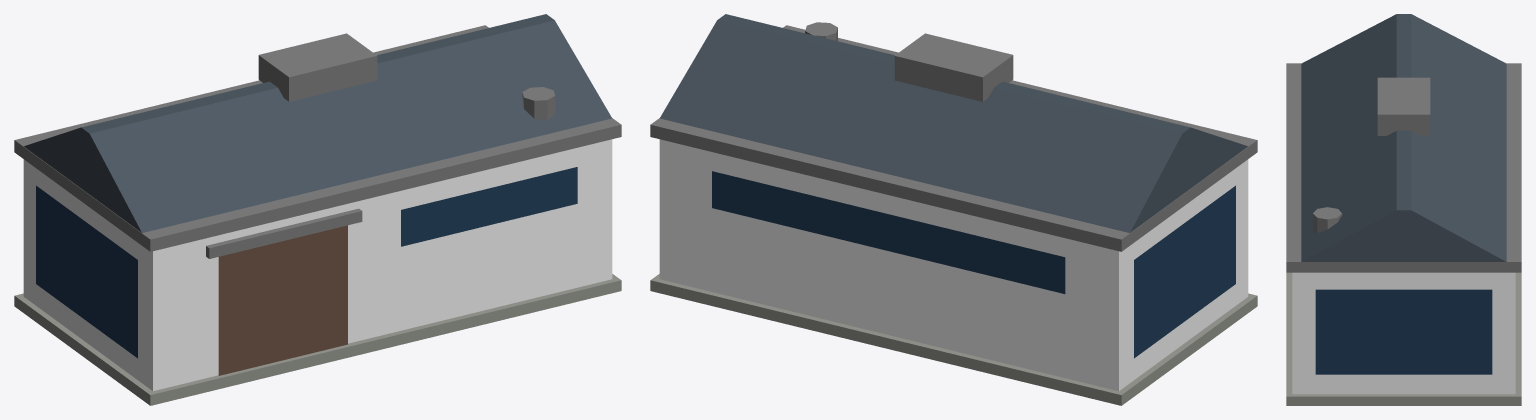
Rendered from mashup-machine-mid-prebuilt.fbx.
3 views of the same model, side by side, from view 1: azimuth 30°, elevation 25°; view 2: azimuth 150°, elevation 25°; view 3: azimuth 270°, elevation 25° (orthographic). The views are drawn at different scales.
Parts seen in each view (by area): view 1: a1056.Warehouse; view 2: a1056.Warehouse; view 3: a1056.Warehouse.
Boxes of the visible parts, x1,y1,x2,y2 form: a1056.Warehouse: [14, 14, 621, 405]; a1056.Warehouse: [650, 14, 1257, 405]; a1056.Warehouse: [1286, 14, 1521, 405].
Size of the model in its own units: 16 by 7.9 by 8.
